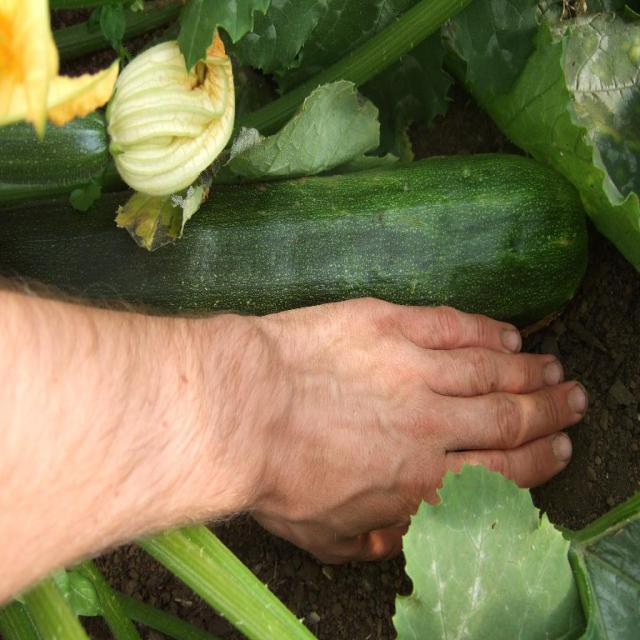Zucchini: (0, 142, 591, 351)
